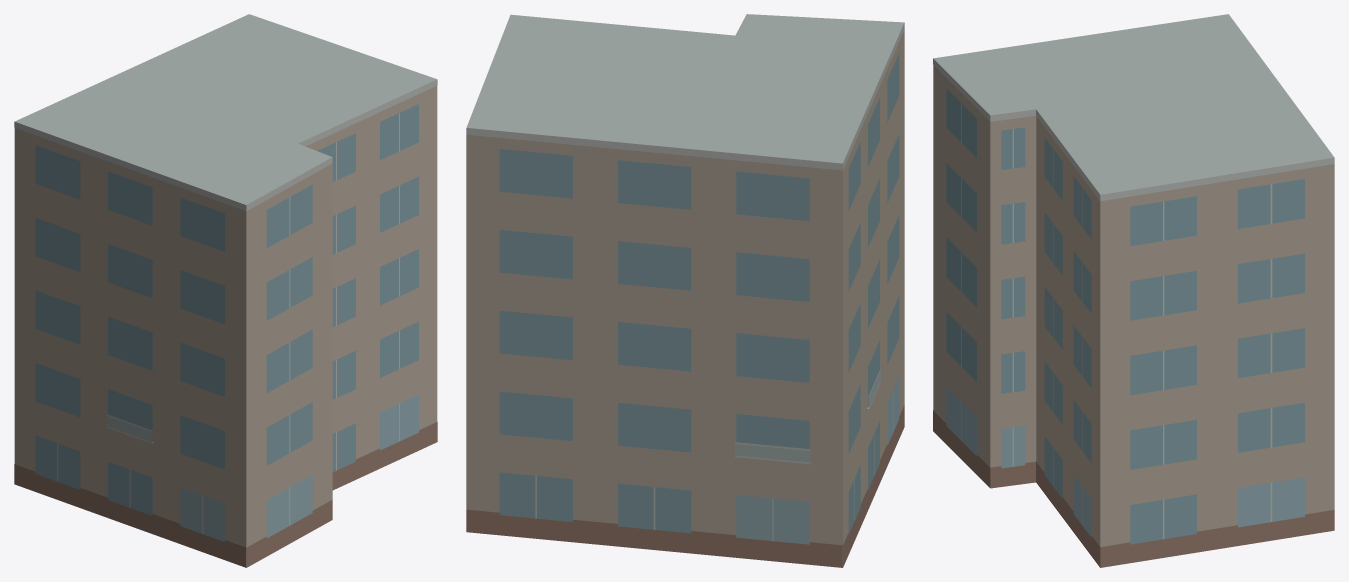
The model's file is survey-upis-32894085.glb.
The picture shows the model from 3 angles, left to right: view 1: azimuth 30°, elevation 25°; view 2: azimuth 150°, elevation 25°; view 3: azimuth 270°, elevation 25°; orthographic projection. The views are drawn at different scales.
Parts seen in each view (by area): view 1: survey-upis-32894085.tmp; view 2: survey-upis-32894085.tmp; view 3: survey-upis-32894085.tmp.
Boxes of the visible parts, left/top/right/bottom form: survey-upis-32894085.tmp: left=14, top=14, right=437, bottom=567; survey-upis-32894085.tmp: left=466, top=14, right=904, bottom=567; survey-upis-32894085.tmp: left=933, top=14, right=1334, bottom=567.
Bounding box in the file's own units: 14.89 × 14.3 × 13.96.
